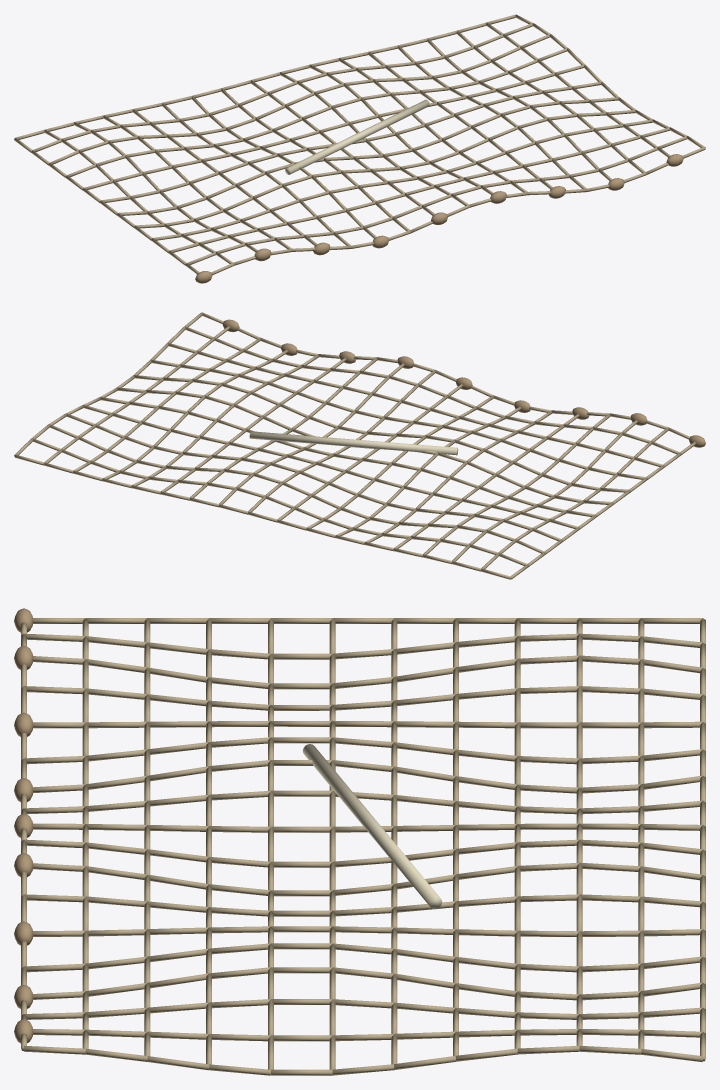
File: SM_NetPrepared.fbx
The picture shows the model from 3 angles, top to bottom: view 1: azimuth 30°, elevation 25°; view 2: azimuth 150°, elevation 25°; view 3: azimuth 270°, elevation 25°; orthographic projection. The views are drawn at different scales.
Parts seen in each view (by area): view 1: SM_NetPrepared; view 2: SM_NetPrepared; view 3: SM_NetPrepared.
Part boxes in pixels (<box>): SM_NetPrepared: <box>14,14,705,283</box>; SM_NetPrepared: <box>14,312,705,579</box>; SM_NetPrepared: <box>14,608,705,1075</box>.
Size of the model in its own units: 235 by 153 by 11.99.
